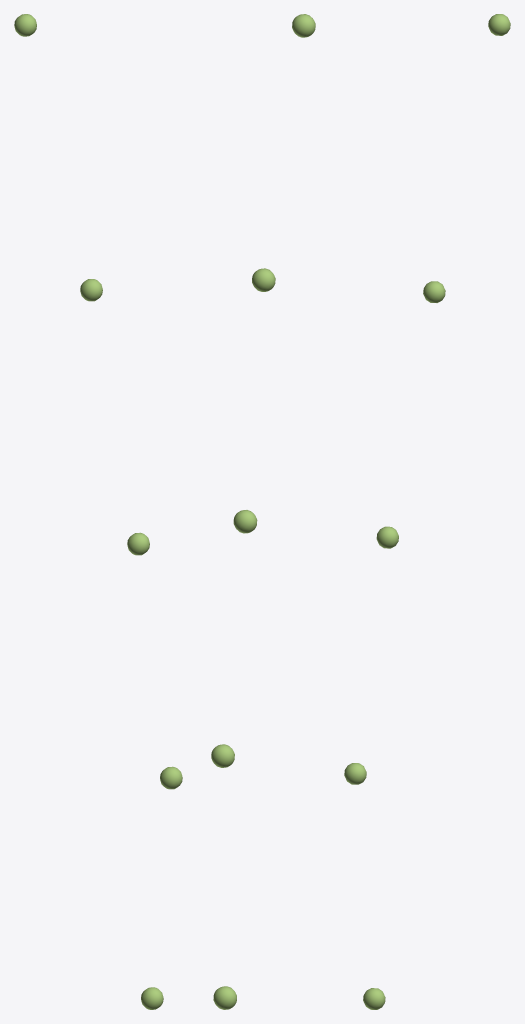
The model's file is lateral-caval-nodes.glb.
3 views of the same model, side by side, from view 1: azimuth 90°, elevation 25°; view 2: azimuth 210°, elevation 25°; view 3: azimuth 270°, elevation 25° (orthographic). The views are drawn at different scales.
Parts seen in each view (by area): view 1: Lateral caval nodes; view 2: Lateral caval nodes; view 3: Lateral caval nodes.
Part boxes in pixels (<box>): Lateral caval nodes: <box>14,14,182,1009</box>; Lateral caval nodes: <box>211,14,315,1009</box>; Lateral caval nodes: <box>344,14,510,1009</box>.
Size of the model in its own units: 0.0042 by 0.1241 by 0.0189.
